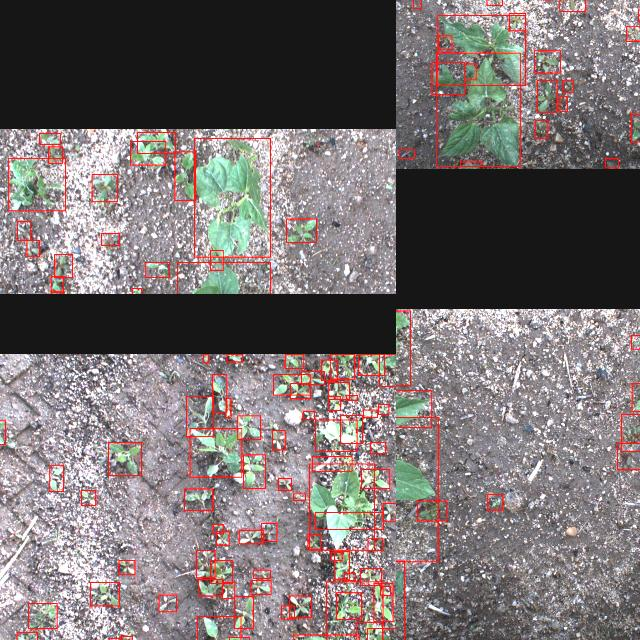crop: (436, 52, 520, 166), (194, 138, 270, 256), (438, 15, 526, 85), (396, 416, 438, 561), (310, 463, 374, 549), (177, 261, 270, 294), (396, 389, 431, 426), (315, 420, 357, 450)
weed: (326, 581, 383, 640), (8, 157, 66, 210), (190, 428, 242, 477), (186, 396, 214, 436), (174, 150, 196, 200), (108, 442, 142, 474), (315, 512, 383, 528), (197, 616, 241, 640), (432, 62, 464, 94), (130, 140, 166, 164), (137, 132, 175, 152), (243, 454, 265, 488), (92, 173, 118, 201), (336, 592, 362, 620), (373, 583, 392, 621), (286, 218, 316, 242), (28, 604, 58, 628), (90, 582, 120, 606), (274, 374, 310, 394), (622, 413, 640, 450), (537, 80, 557, 112), (617, 442, 640, 469), (184, 488, 212, 510), (340, 415, 362, 443), (234, 596, 253, 628), (418, 500, 447, 520), (330, 354, 354, 378), (534, 50, 560, 72), (362, 468, 390, 488), (312, 456, 352, 470), (213, 373, 227, 412), (379, 353, 396, 385), (238, 415, 260, 439), (358, 354, 384, 374), (196, 550, 214, 578), (356, 621, 382, 640), (289, 595, 311, 617), (210, 560, 232, 582), (334, 551, 350, 579), (55, 254, 73, 276), (198, 579, 222, 595), (238, 529, 264, 543), (50, 465, 64, 491), (145, 262, 169, 276), (321, 358, 337, 379), (328, 382, 349, 398), (361, 568, 382, 584), (508, 12, 526, 30), (159, 594, 177, 612), (290, 382, 310, 398), (560, 0, 586, 11), (302, 371, 324, 384), (630, 114, 640, 142), (251, 580, 271, 594), (284, 353, 304, 367), (272, 429, 286, 449), (210, 250, 223, 270), (534, 120, 548, 138), (382, 502, 396, 520), (262, 523, 276, 541), (631, 383, 640, 411), (40, 132, 60, 144), (18, 220, 30, 240), (48, 146, 62, 162), (26, 239, 40, 255), (119, 560, 135, 574), (488, 494, 502, 510), (101, 233, 119, 245), (626, 25, 640, 40), (438, 35, 452, 49), (82, 490, 96, 504), (51, 276, 63, 292), (464, 63, 476, 79), (222, 582, 234, 598), (217, 531, 230, 545), (17, 631, 37, 640), (308, 534, 320, 548), (278, 478, 292, 490), (328, 396, 340, 410), (368, 538, 382, 550), (370, 442, 386, 452), (562, 80, 574, 92), (282, 606, 294, 618), (0, 420, 6, 444), (605, 158, 619, 168), (253, 570, 270, 578), (559, 96, 567, 112), (226, 353, 242, 361), (631, 334, 640, 348), (400, 150, 414, 158), (362, 409, 378, 416), (379, 404, 389, 414), (380, 586, 390, 596), (212, 524, 224, 532), (344, 572, 356, 580), (304, 409, 314, 418), (331, 552, 342, 560), (461, 162, 482, 166), (226, 397, 230, 417), (346, 394, 358, 400), (293, 493, 305, 499), (132, 287, 142, 294), (121, 635, 133, 640), (413, 0, 421, 7), (50, 290, 63, 294), (107, 637, 120, 640), (204, 353, 208, 362)
